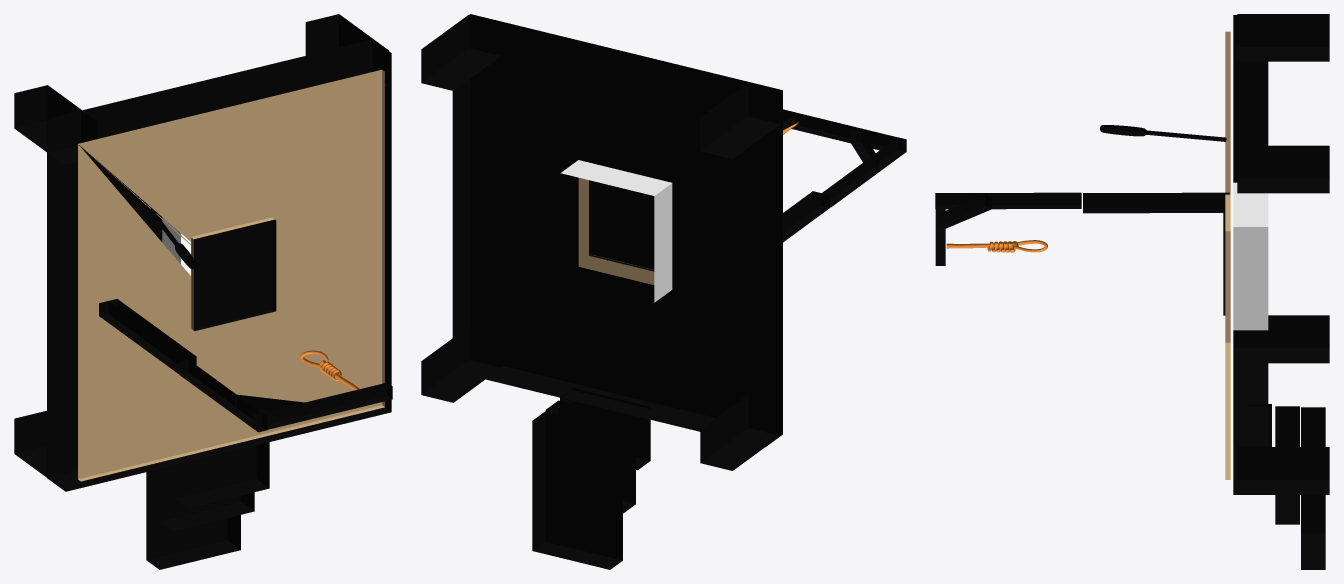
File: GALLOWS.glb
3 renders of one model, left to right at view 1: azimuth 30°, elevation 25°; view 2: azimuth 150°, elevation 25°; view 3: azimuth 270°, elevation 25°, orthographic. The views are drawn at different scales.
Parts seen in each view (by area): view 1: _0; view 2: _0; view 3: _0.
Part boxes in pixels (x1,y1,x2,y2): _0: (14,14,392,569); _0: (421,14,906,569); _0: (935,14,1329,569).
Size of the model in its own units: 1.34 by 1.95 by 1.51.
